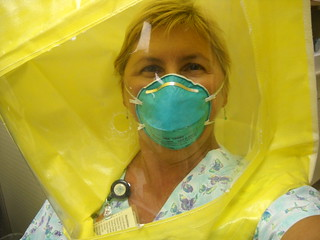n95: (129, 73, 216, 151)
